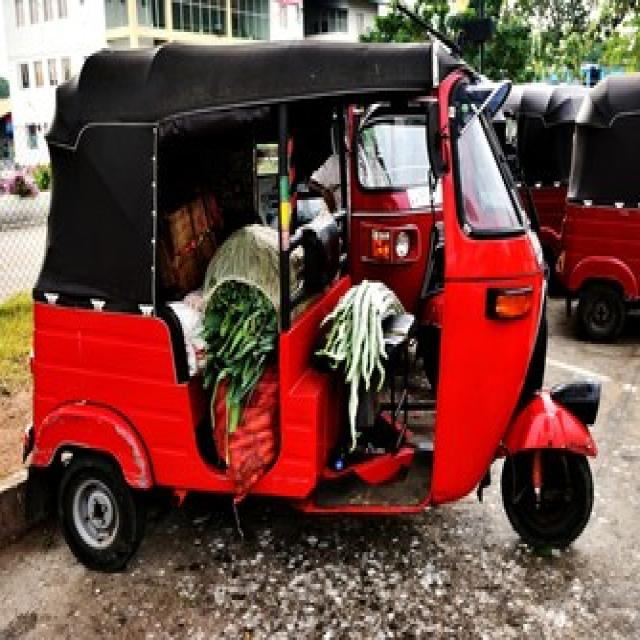three wheeler: (29, 43, 594, 565), (556, 75, 638, 341), (492, 83, 586, 288), (353, 112, 443, 312)
